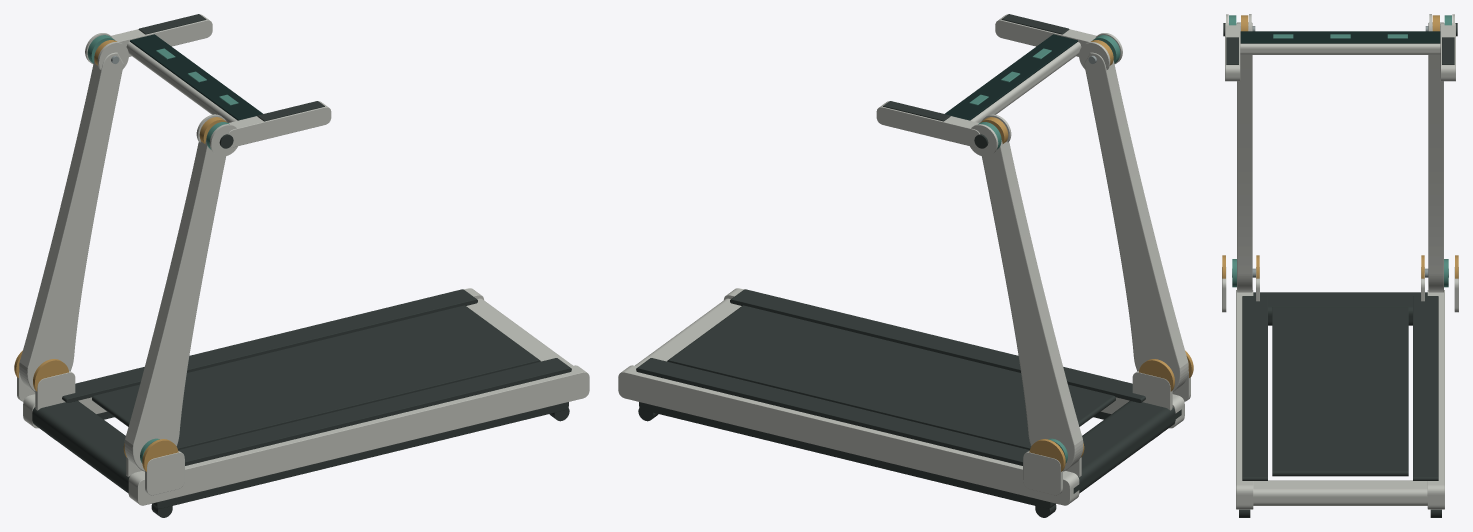
Rendered from poxing-handle-concept.glb.
3 renders of one model, left to right at view 1: azimuth 30°, elevation 25°; view 2: azimuth 150°, elevation 25°; view 3: azimuth 270°, elevation 25°, orthographic. The views are drawn at different scales.
Visible parts, largest first — view 1: target_450x1300_belt, tapered_column_rigid (×2), deck_upper_frame (×2), side_step (×2), underdeck_motor_envelope, handrail_rigid_arm (×2), fixed_lower_side_beam, display_top, B_fixed_yoke_cheek (×2), rear_cap, rigid_cross_console; view 2: target_450x1300_belt, tapered_column_rigid (×2), side_step (×2), deck_upper_frame, underdeck_motor_envelope, handrail_rigid_arm (×2), fixed_lower_side_beam, display_top, B_fixed_yoke_cheek (×2), rear_cap, rigid_cross_console; view 3: target_450x1300_belt, side_step (×2), tapered_column_rigid (×2), rear_cap, deck_upper_frame (×2), underdeck_motor_envelope, display_top, rigid_cross_console, handrail_rigid_arm (×2), soft_grip_surface (×2).
Part boxes in pixels (box(x1,y1,x2,y2)): target_450x1300_belt: box(92, 305, 540, 449); tapered_column_rigid (×2): box(19, 52, 225, 471); deck_upper_frame (×2): box(23, 288, 589, 505); side_step (×2): box(62, 289, 571, 465); underdeck_motor_envelope: box(32, 401, 129, 493); handrail_rigid_arm (×2): box(111, 14, 331, 147); fixed_lower_side_beam: box(152, 402, 568, 508); display_top: box(130, 34, 262, 120); B_fixed_yoke_cheek (×2): box(35, 371, 184, 495); rear_cap: box(466, 298, 572, 366); rigid_cross_console: box(126, 42, 237, 122); target_450x1300_belt: box(667, 305, 1115, 449); tapered_column_rigid (×2): box(982, 52, 1188, 471); side_step (×2): box(636, 289, 1145, 465); deck_upper_frame: box(618, 365, 1079, 505); underdeck_motor_envelope: box(1073, 401, 1181, 493); handrail_rigid_arm (×2): box(876, 14, 1096, 147); fixed_lower_side_beam: box(639, 402, 1055, 508); display_top: box(945, 34, 1077, 120); B_fixed_yoke_cheek (×2): box(1023, 371, 1172, 495); rear_cap: box(635, 298, 741, 366); rigid_cross_console: box(970, 42, 1081, 122); target_450x1300_belt: box(1272, 307, 1408, 476); side_step (×2): box(1242, 296, 1438, 480); tapered_column_rigid (×2): box(1237, 22, 1443, 292); rear_cap: box(1241, 480, 1439, 505); deck_upper_frame (×2): box(1236, 290, 1444, 509); underdeck_motor_envelope: box(1253, 292, 1427, 325); display_top: box(1240, 31, 1440, 43); rigid_cross_console: box(1240, 33, 1440, 54); handrail_rigid_arm (×2): box(1225, 23, 1455, 81); soft_grip_surface (×2): box(1226, 37, 1454, 64).
Size of the model in its own units: 1.59 by 1.28 by 0.785.
